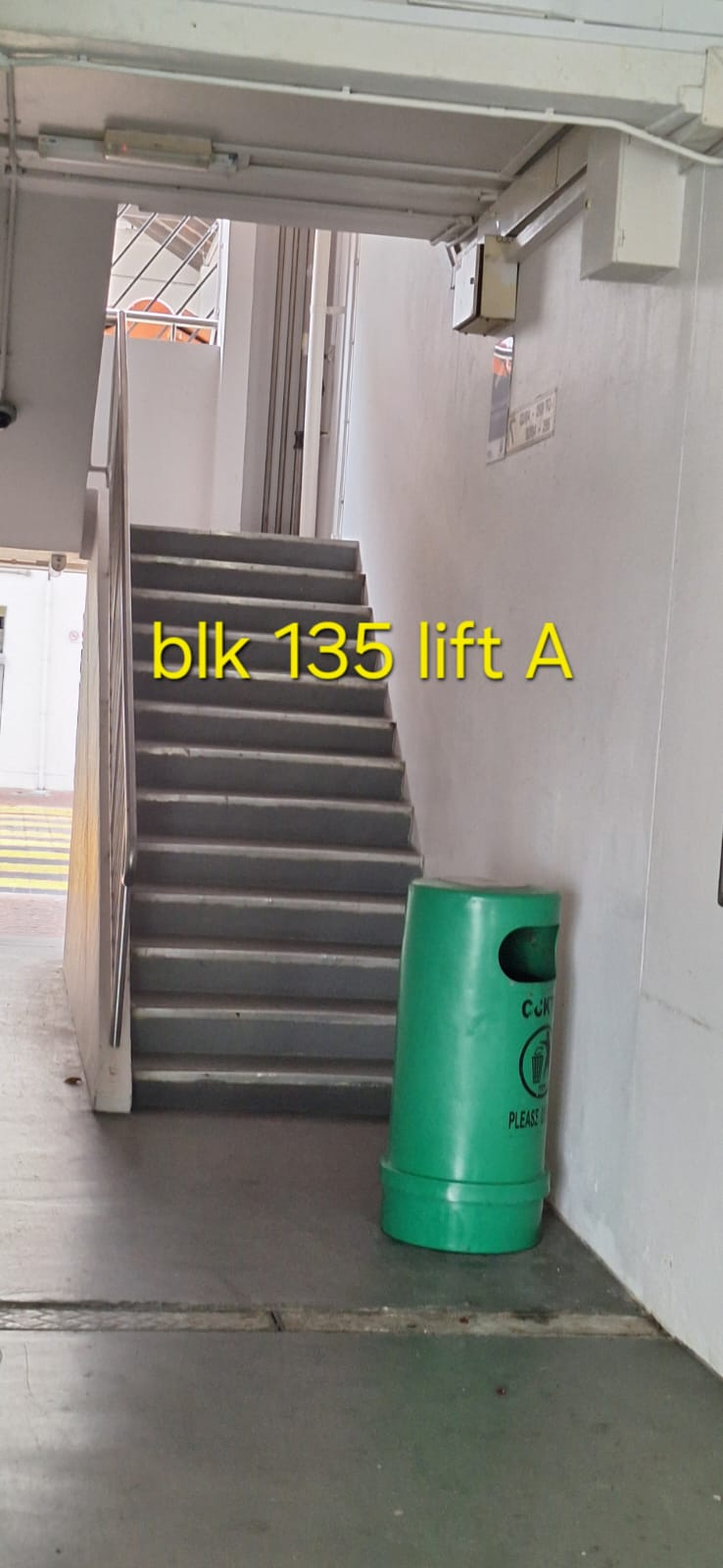bin_empty: (380, 880, 559, 1253)
